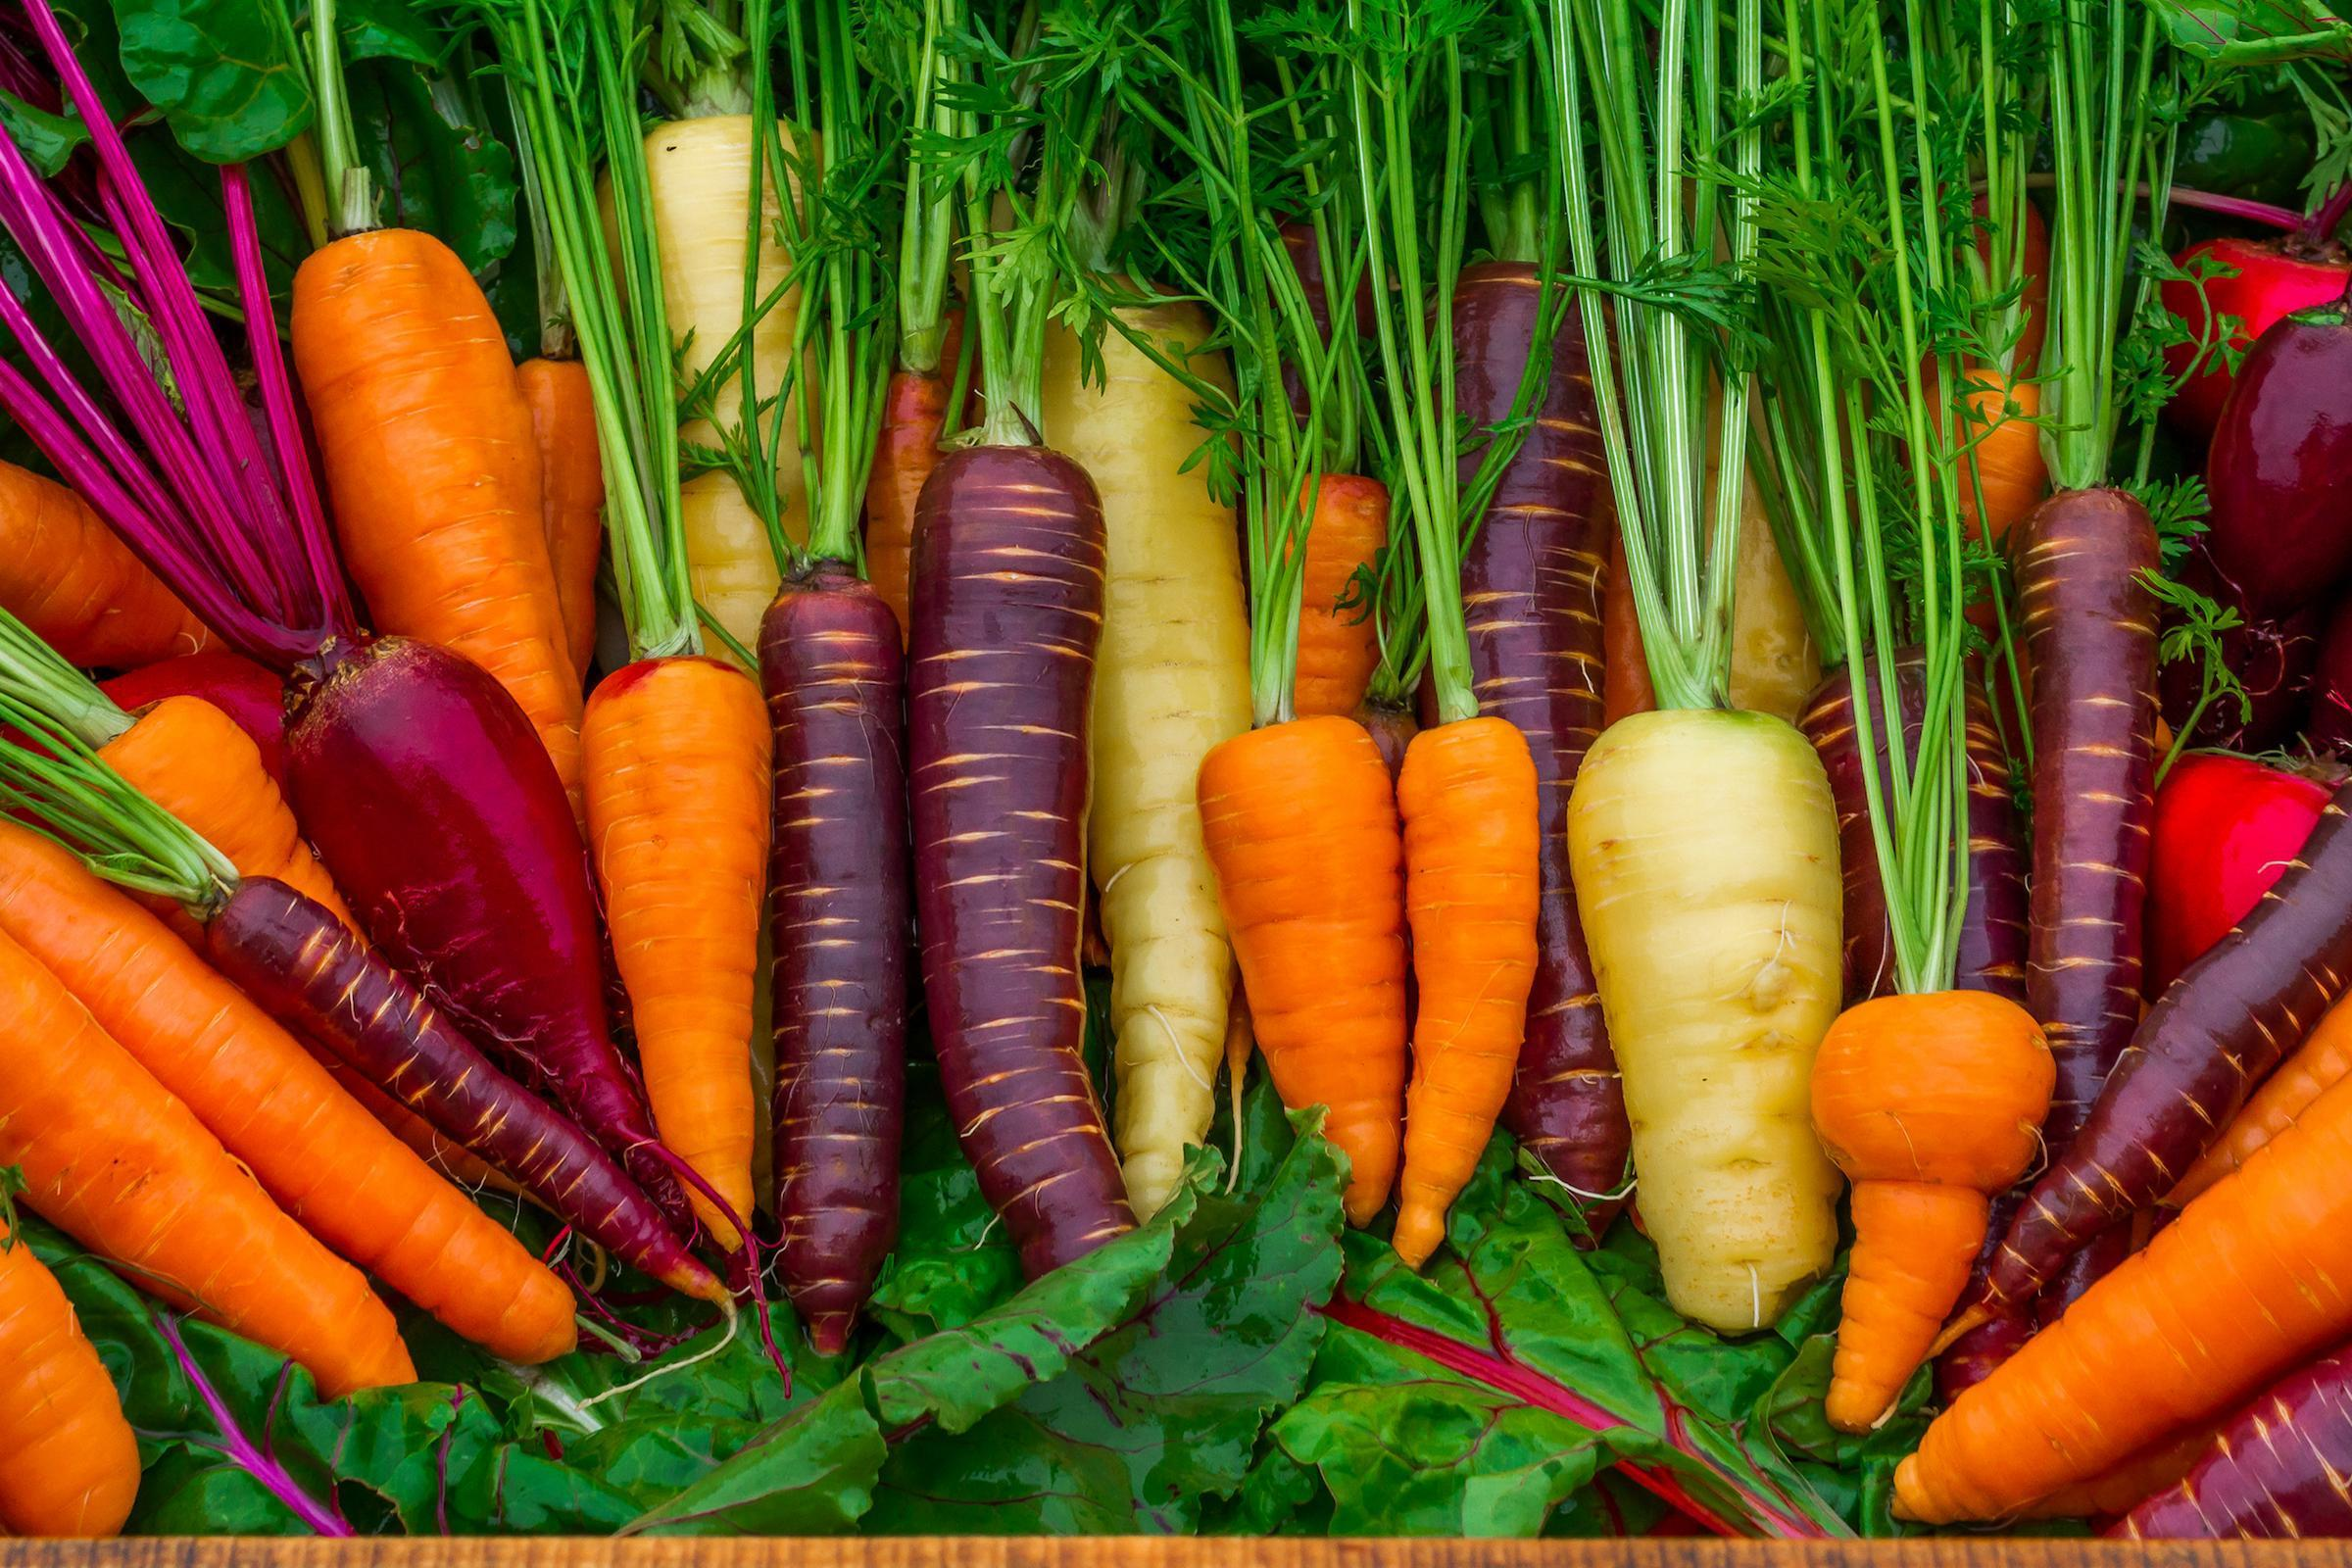carrot: (0, 920, 502, 1409), (1216, 735, 1507, 1213), (268, 210, 532, 609), (581, 684, 767, 1176), (1816, 980, 2005, 1438), (0, 1215, 161, 1549)
